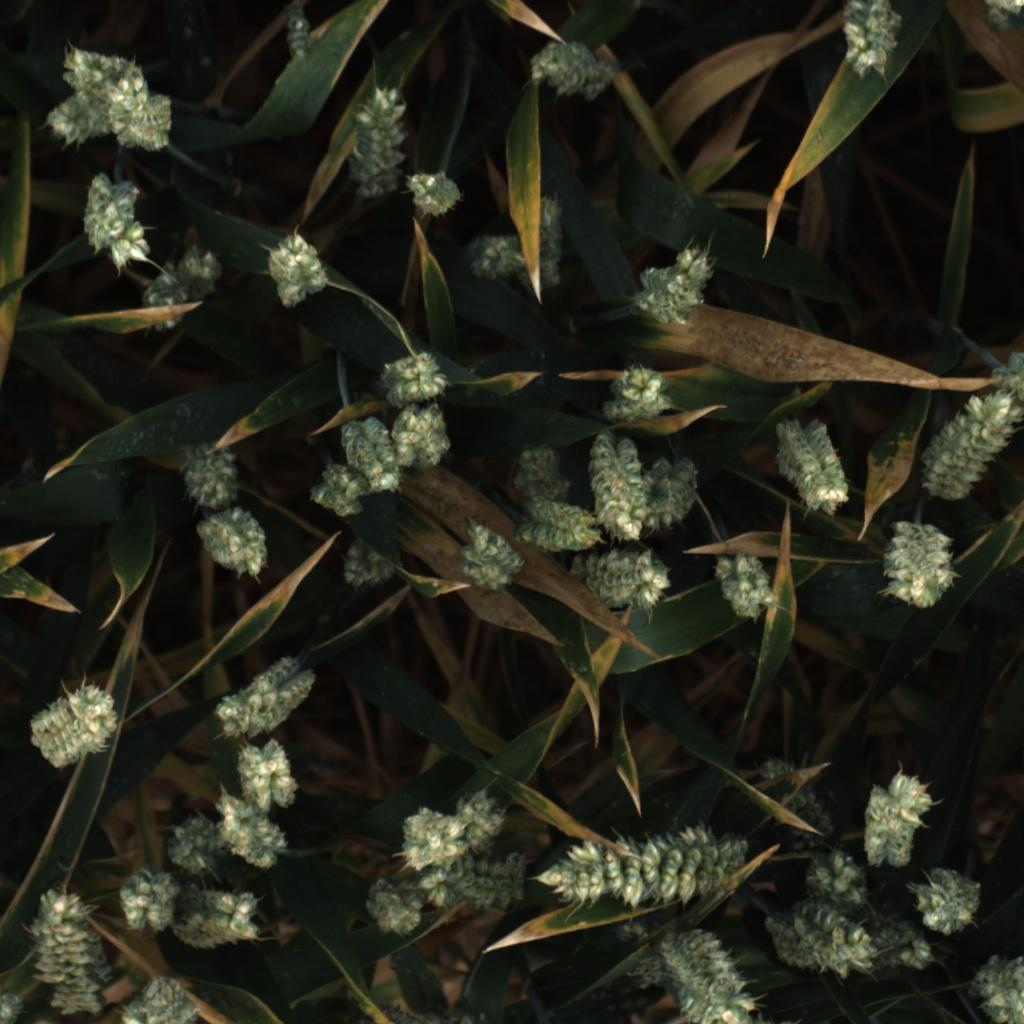0-0: (535, 822, 753, 907), (919, 343, 1024, 504), (630, 925, 756, 1022), (23, 885, 109, 1021), (762, 895, 878, 983), (209, 650, 320, 739), (337, 82, 418, 203), (23, 678, 123, 775), (48, 29, 162, 112), (876, 518, 966, 620), (769, 416, 854, 521), (854, 769, 938, 875), (624, 250, 732, 331), (79, 169, 155, 275), (138, 243, 227, 332), (756, 749, 835, 849), (426, 846, 534, 916), (168, 885, 273, 955), (588, 431, 649, 546), (193, 506, 278, 588), (439, 777, 526, 857), (568, 544, 672, 609), (206, 794, 297, 867), (524, 36, 617, 105), (230, 737, 310, 816), (393, 796, 472, 875), (635, 456, 710, 539), (339, 412, 414, 494), (173, 436, 252, 513), (259, 232, 336, 310), (834, 0, 907, 82), (911, 870, 993, 941), (859, 916, 944, 983), (110, 864, 186, 937), (458, 518, 528, 597), (353, 870, 427, 944), (795, 847, 874, 916), (706, 552, 781, 624), (104, 89, 183, 157), (31, 86, 116, 148), (519, 191, 569, 294), (153, 812, 225, 883), (518, 500, 606, 558), (601, 362, 674, 430), (502, 440, 577, 504), (376, 347, 457, 405), (391, 401, 455, 472), (306, 457, 370, 521), (117, 976, 199, 1024), (455, 227, 525, 282), (338, 536, 404, 594), (403, 165, 470, 221), (279, 0, 316, 64), (979, 0, 1024, 34)
